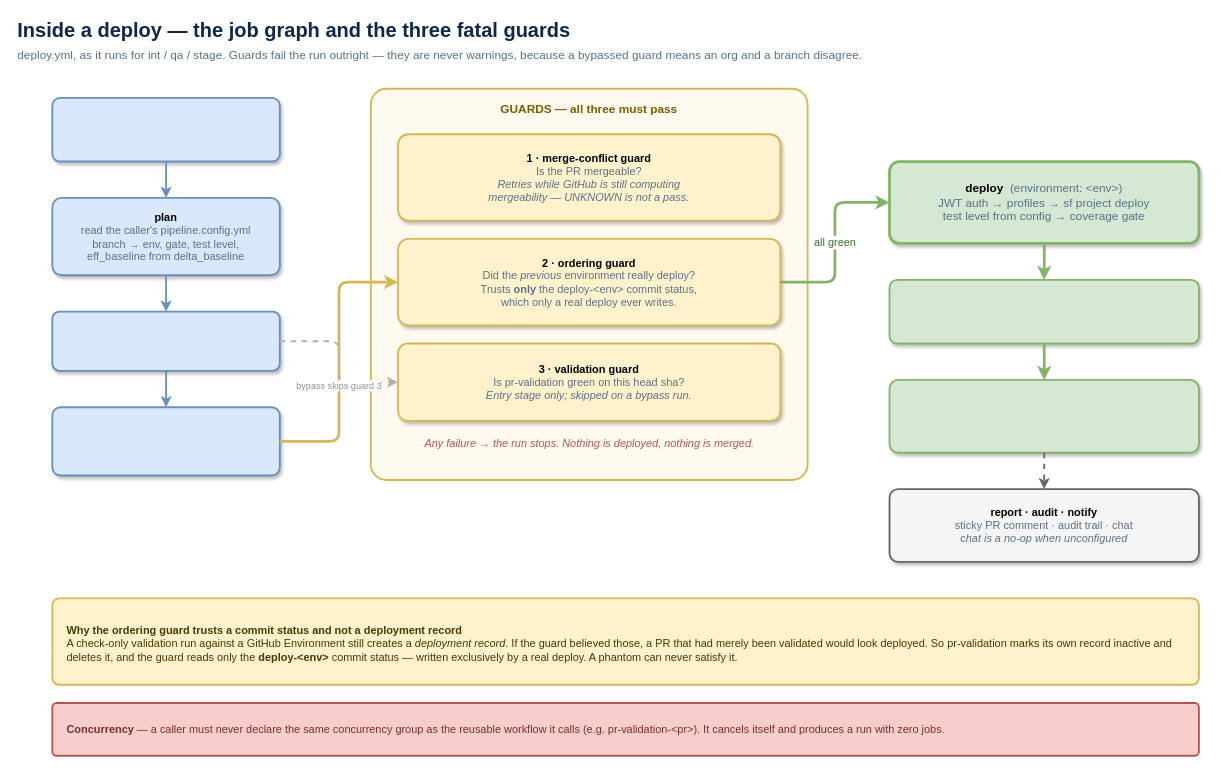
Image size: 1221x772. Some labels were removed from this diagram. Each missing label, with the centre of its shape:
"bypass is this a hotfix / ops path?" belongs at pixel 166 342.
"changes install SF CLI + sfdx-git-delta delta vs eff_baseline → package.xml" belongs at pixel 166 442.
"ctx resolve PR number, head sha, base branch, actor" belongs at pixel 166 130.
"merge-pr merge only now — the org already took it" belongs at pixel 1045 312.
"status + labels deploy-<env> commit status deployed:<env> label on the int PR" belongs at pixel 1045 417.
